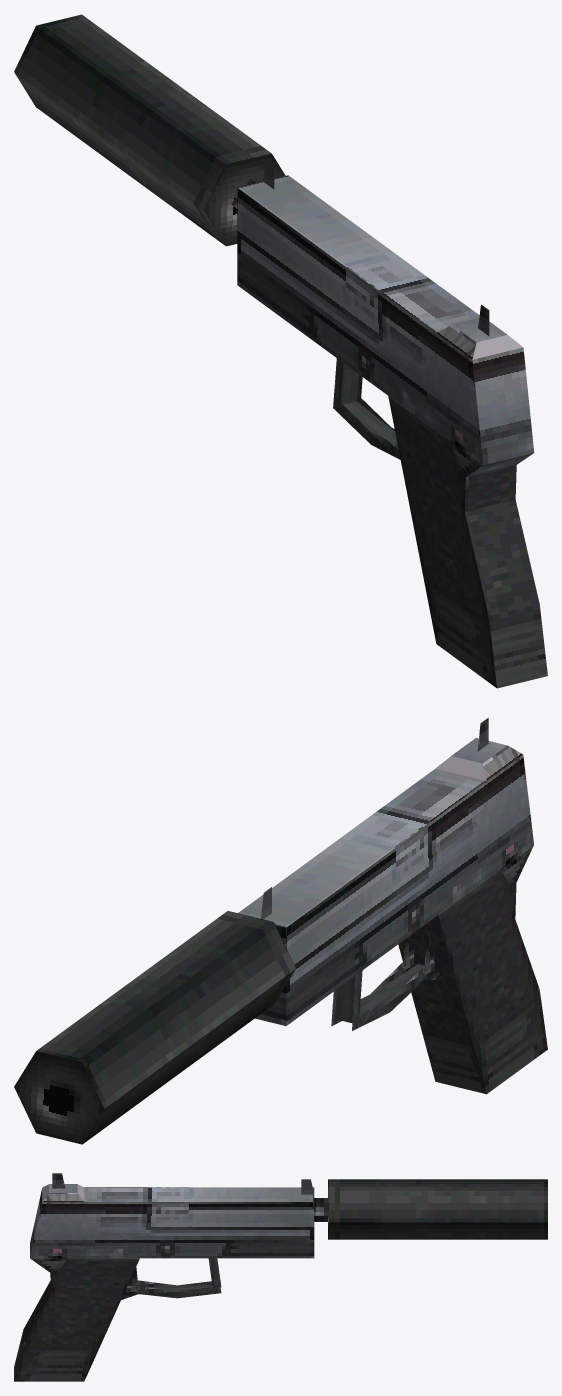
Rendered from recovered_gun_a_mark23sd.glb.
The picture shows the model from 3 angles, top to bottom: view 1: azimuth 30°, elevation 25°; view 2: azimuth 150°, elevation 25°; view 3: azimuth 270°, elevation 25°; orthographic projection. The views are drawn at different scales.
Visible parts, largest first — view 1: Gun_36a5e04d92e0, Gun_0a7a76e0af90; view 2: Gun_36a5e04d92e0, Gun_0a7a76e0af90; view 3: Gun_36a5e04d92e0.
Part boxes in pixels (x1,y1,x2,y2): Gun_36a5e04d92e0: (14,14,547,688); Gun_0a7a76e0af90: (204,153,285,246); Gun_36a5e04d92e0: (37,717,547,1143); Gun_0a7a76e0af90: (14,1051,104,1144); Gun_36a5e04d92e0: (14,1173,547,1381).
Size of the model in its own units: 0.0509 by 0.1881 by 0.4525.
Materials: 2 (2 with a texture image).
